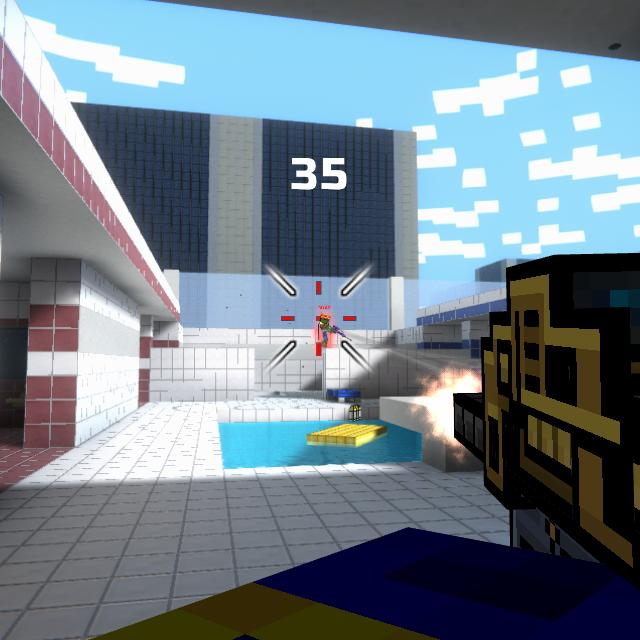Enemy: (316, 311, 334, 348)
